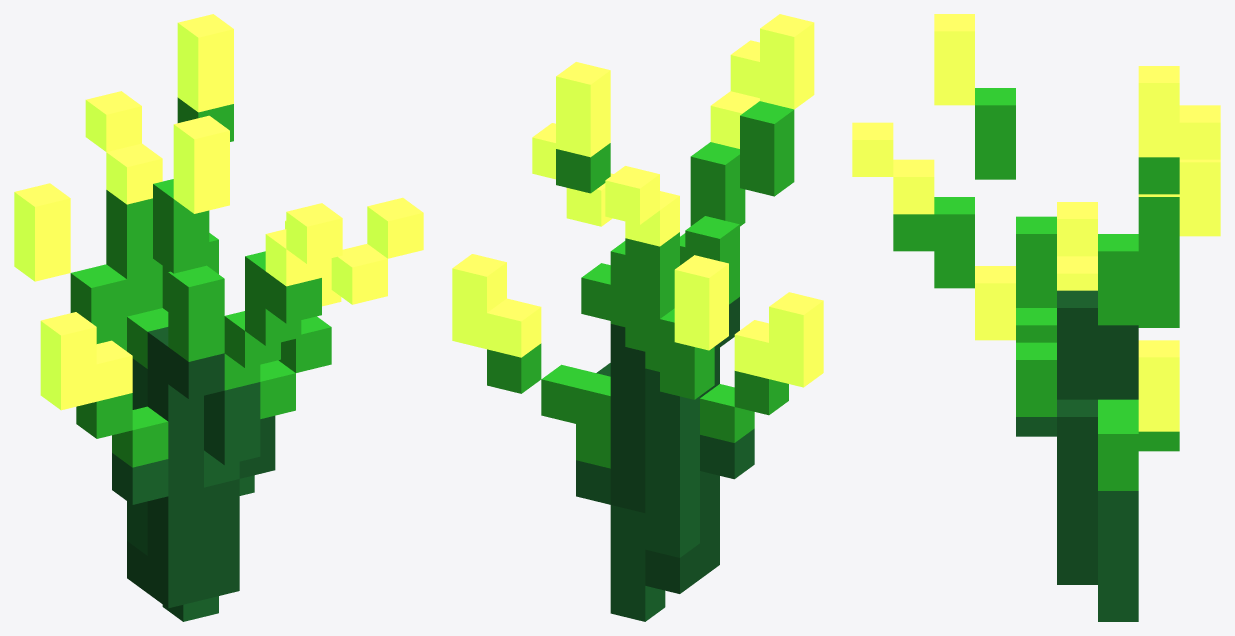
File: plant_Sungrass.glb
3 renders of one model, left to right at view 1: azimuth 30°, elevation 25°; view 2: azimuth 150°, elevation 25°; view 3: azimuth 270°, elevation 25°, orthographic. The views are drawn at different scales.
Parts seen in each view (by area): view 1: item_PLANT_Sungrass; view 2: item_PLANT_Sungrass; view 3: item_PLANT_Sungrass.
Boxes of the visible parts, x1=… form: item_PLANT_Sungrass: x1=14, y1=14, x2=423, y2=621; item_PLANT_Sungrass: x1=452, y1=14, x2=823, y2=621; item_PLANT_Sungrass: x1=852, y1=14, x2=1220, y2=621.
Bounding box in the file's own units: 0.2045 × 0.3409 × 0.2045.
1 material, 1 textured.
